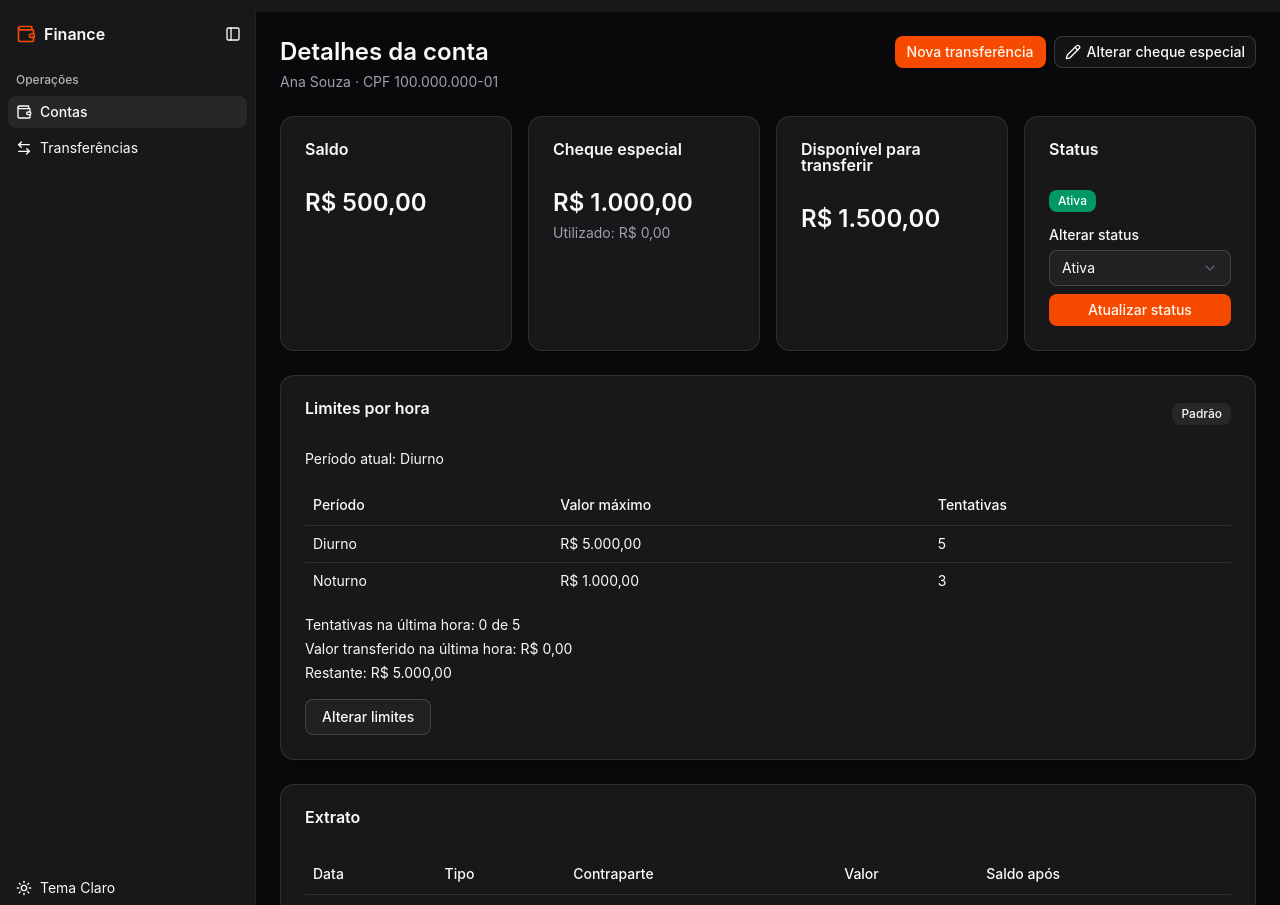
Account details page › changes the account status
Click the dropdown named "Alterar status". click: (1140,268)
box: top-left (1049, 250), bottom-right (1231, 286)
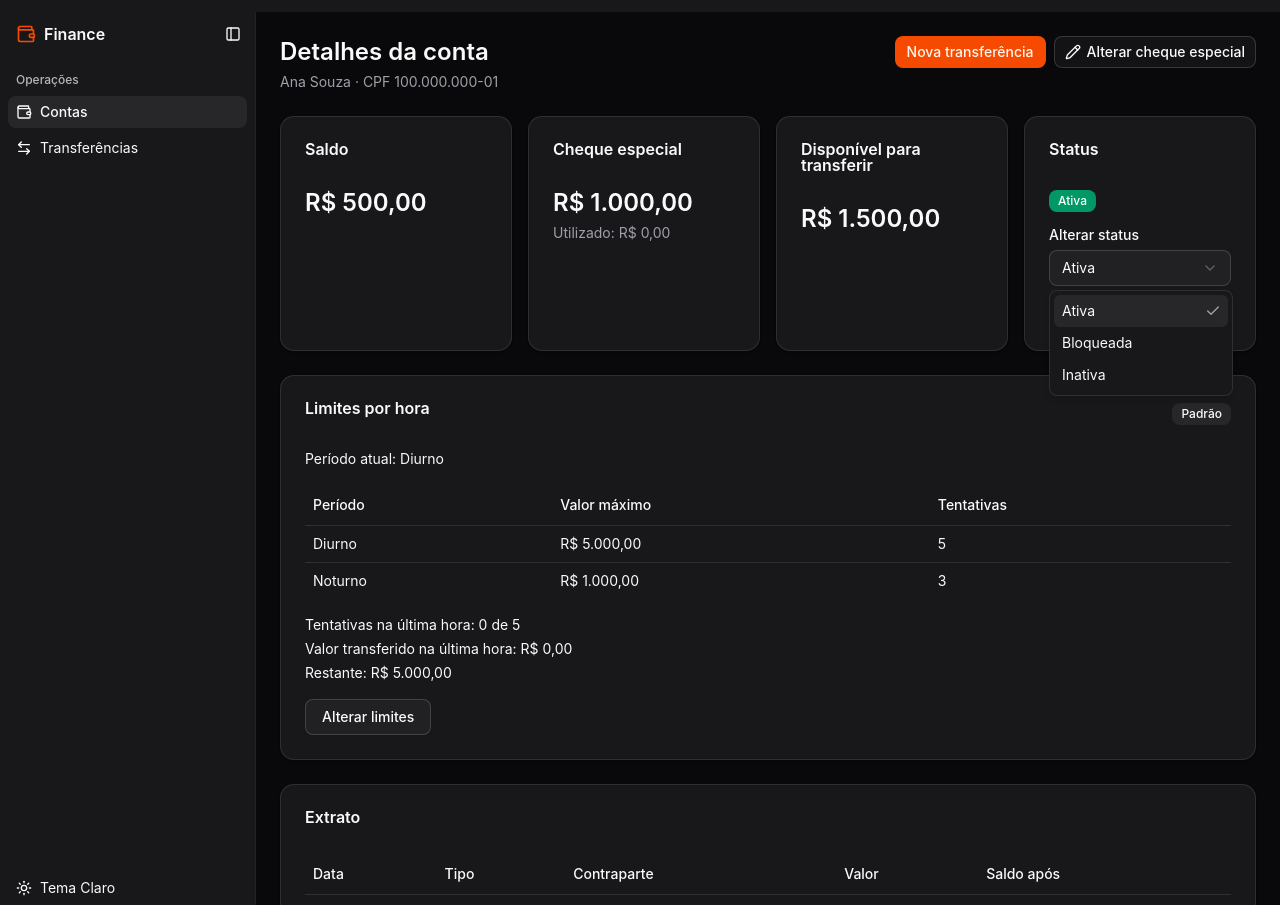
Click the option "Bloqueada". click: (1097,342)
box: top-left (1062, 334), bottom-right (1132, 351)
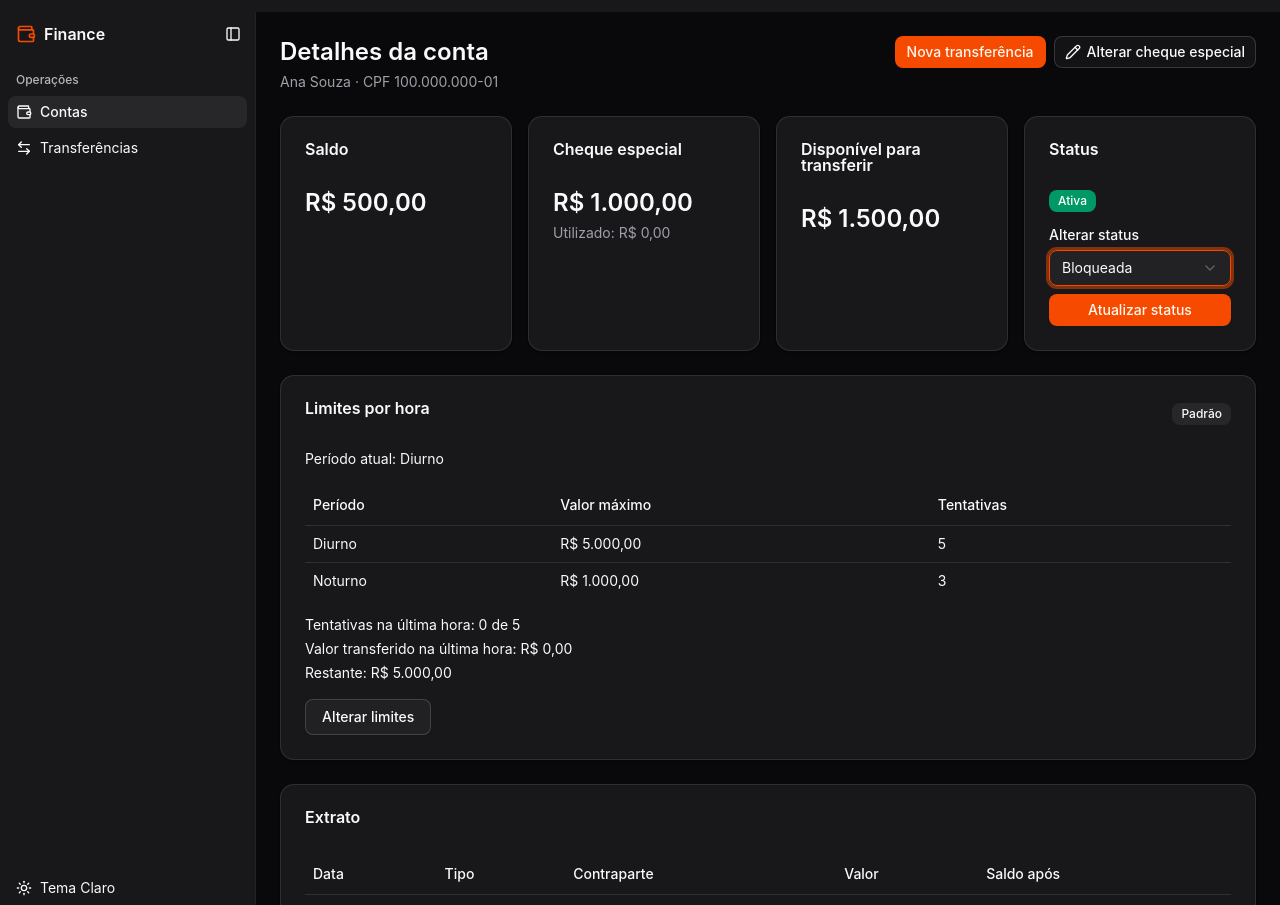
Click the button "Atualizar status". click: (1140,310)
box: top-left (1049, 294), bottom-right (1231, 326)
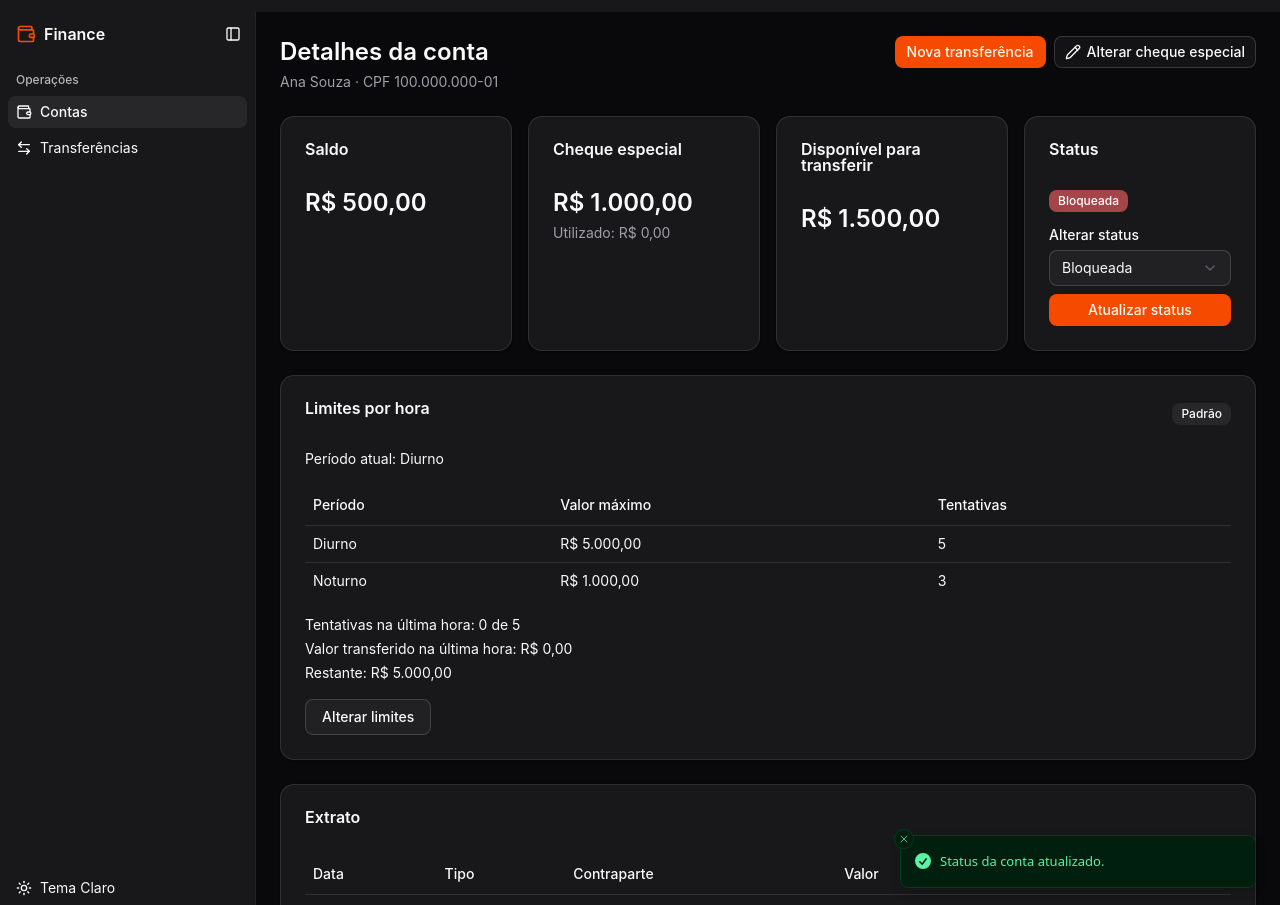
Expected: the text "Status da conta atualizado." is shown, top-left (940, 852), bottom-right (1104, 871)
